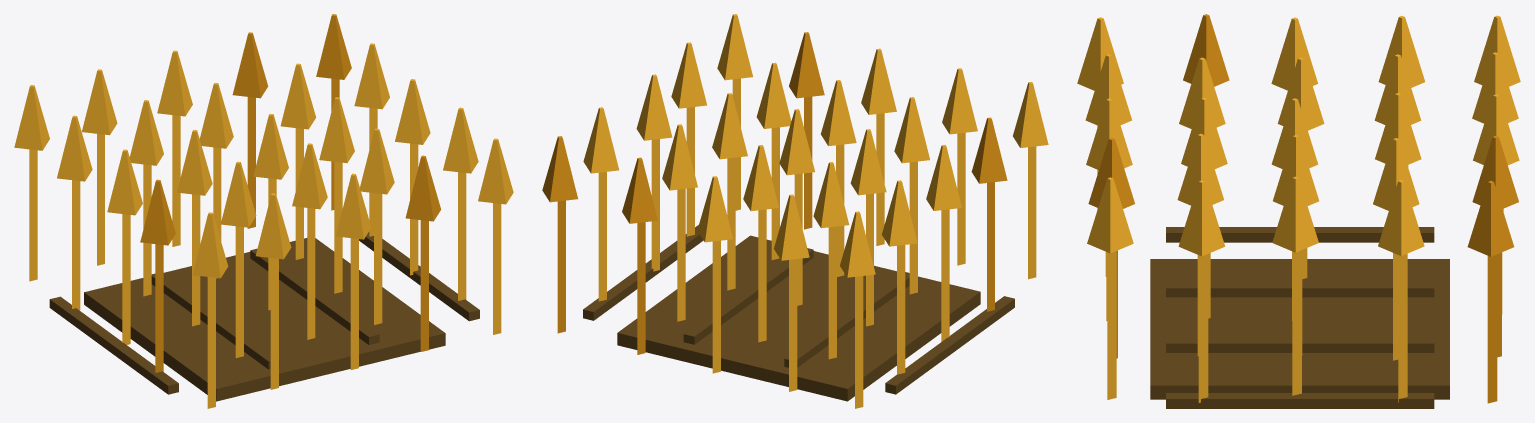
Rendered from grainfield_ripe.glb.
3 renders of one model, left to right at view 1: azimuth 30°, elevation 25°; view 2: azimuth 150°, elevation 25°; view 3: azimuth 270°, elevation 25°, orthographic. The views are drawn at different scales.
Visible parts, largest first — view 1: Grain stalk.017, Furrow.006, Grain head.017; view 2: Grain stalk.017, Furrow.006, Grain head.017; view 3: Furrow.006, Grain stalk.017, Grain head.017.
Part boxes in pixels (x1,y1,x2,y2): Grain stalk.017: (14,43,513,408); Furrow.006: (49,231,479,401); Grain head.017: (140,14,440,372); Grain stalk.017: (583,14,1048,408); Furrow.006: (583,225,1014,401); Grain head.017: (542,32,1007,354); Furrow.006: (1150,227,1449,408); Grain stalk.017: (1077,15,1520,402); Grain head.017: (1088,14,1518,403).
Size of the model in its own units: 1.41 by 0.845 by 1.42.
